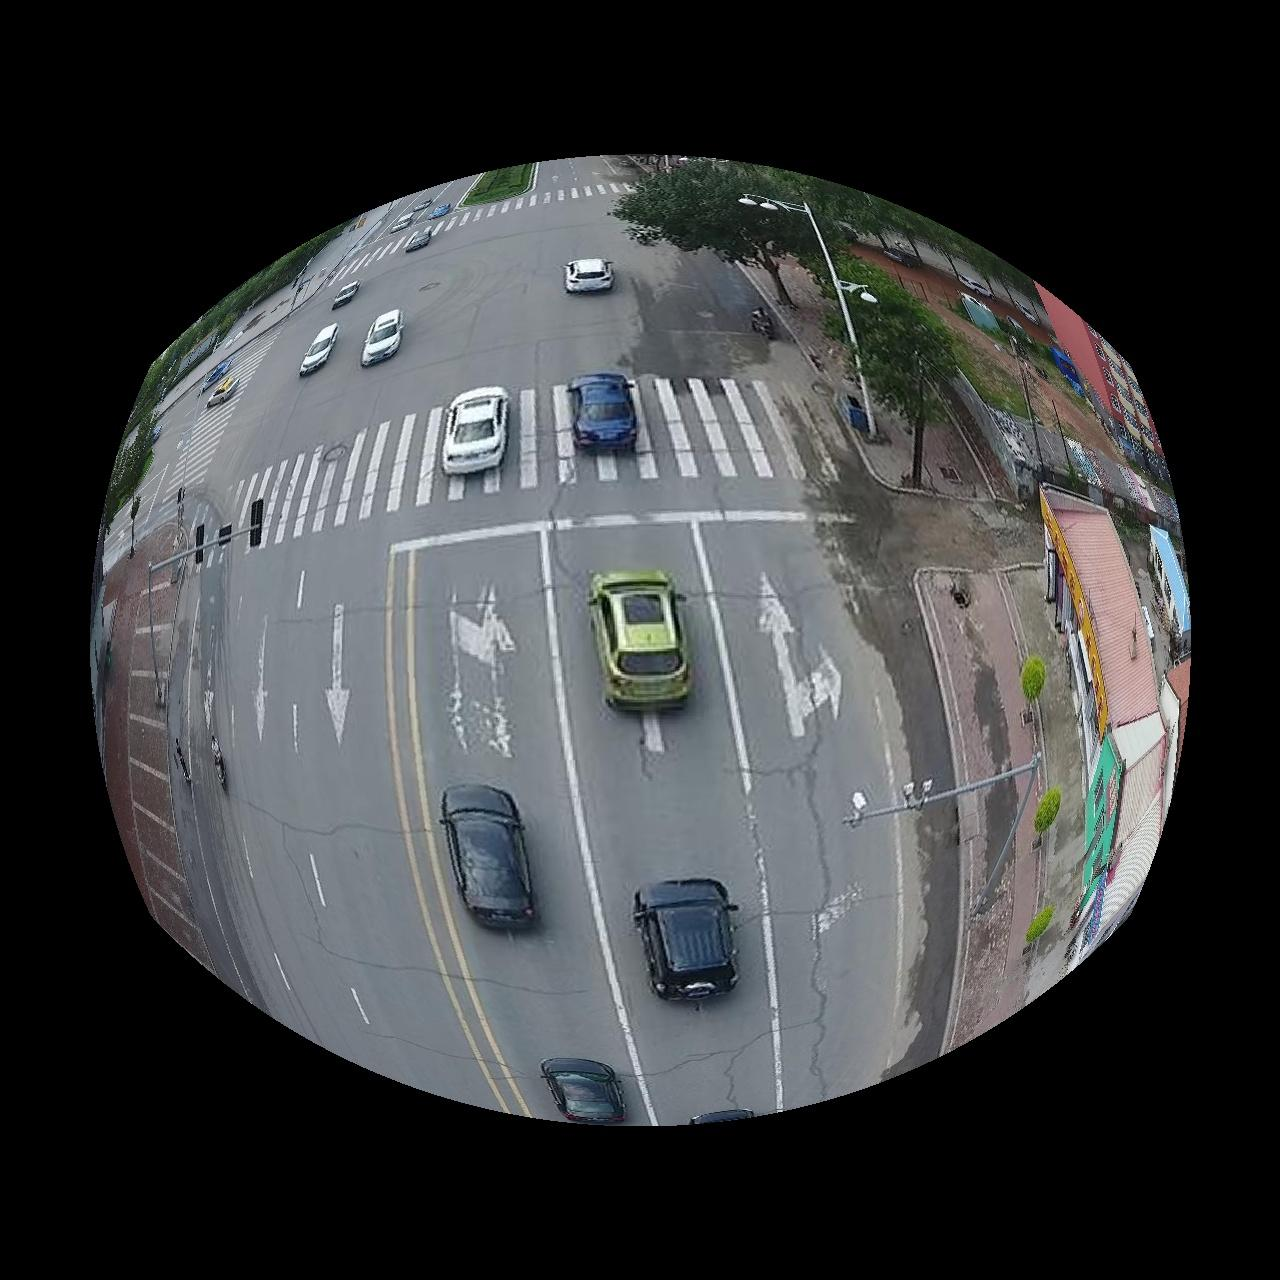cars: (588, 571, 692, 710), (442, 787, 536, 930), (634, 881, 738, 1001), (442, 387, 509, 476), (542, 1060, 626, 1125), (568, 372, 638, 449), (361, 309, 403, 366), (299, 324, 338, 374), (565, 257, 614, 292)
